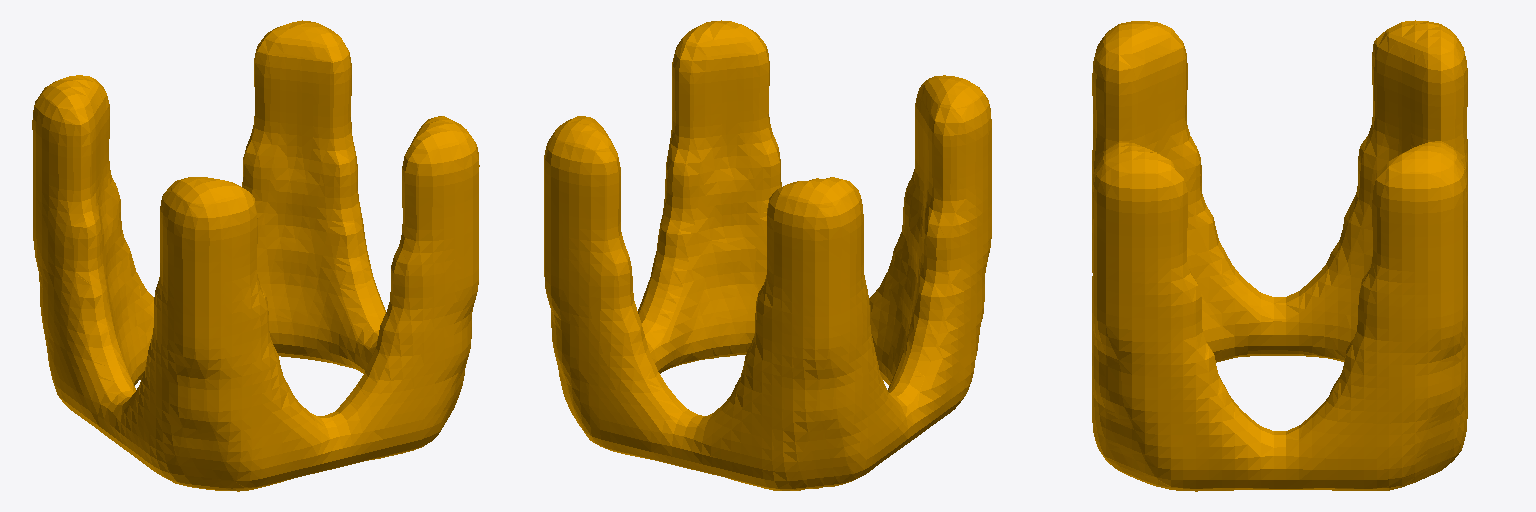
The robot description file, URDF, robot "object":
<?xml version="1.0"?>
        <robot name="object">
          <link name="object">
            <visual>
              <origin xyz="0.0 0.0 0.0"/>
              <geometry>
                <mesh filename="E2.stl" scale="1.00 1.00 1.00"/>
              </geometry>
            </visual>
            <collision>
              <origin xyz="0.0 0.0 0.0"/>
              <geometry>
                <mesh filename="E2.stl" scale="1.00 1.00 1.00"/>
              </geometry>
            </collision>
          </link>
        </robot>

--- Facts derived from the render (not from the file) ---
3 views of the same robot in one strip: view 1: azimuth 30°, elevation 25°; view 2: azimuth 150°, elevation 25°; view 3: azimuth 270°, elevation 25° (orthographic).
Model object with 1 links and 0 joints (none), rooted at object, posed every joint at zero.
Links seen in each view (by area): view 1: object; view 2: object; view 3: object.
Link boxes in pixels (bbox=[...]): object: bbox=[32, 20, 479, 491]; object: bbox=[544, 20, 991, 490]; object: bbox=[1092, 20, 1467, 491].
Bounding box of the posed robot: 0.1 × 0.1 × 0.0999 m (x, y, z).
1 mesh visuals loaded from 1 distinct referenced files (1 binary STL).